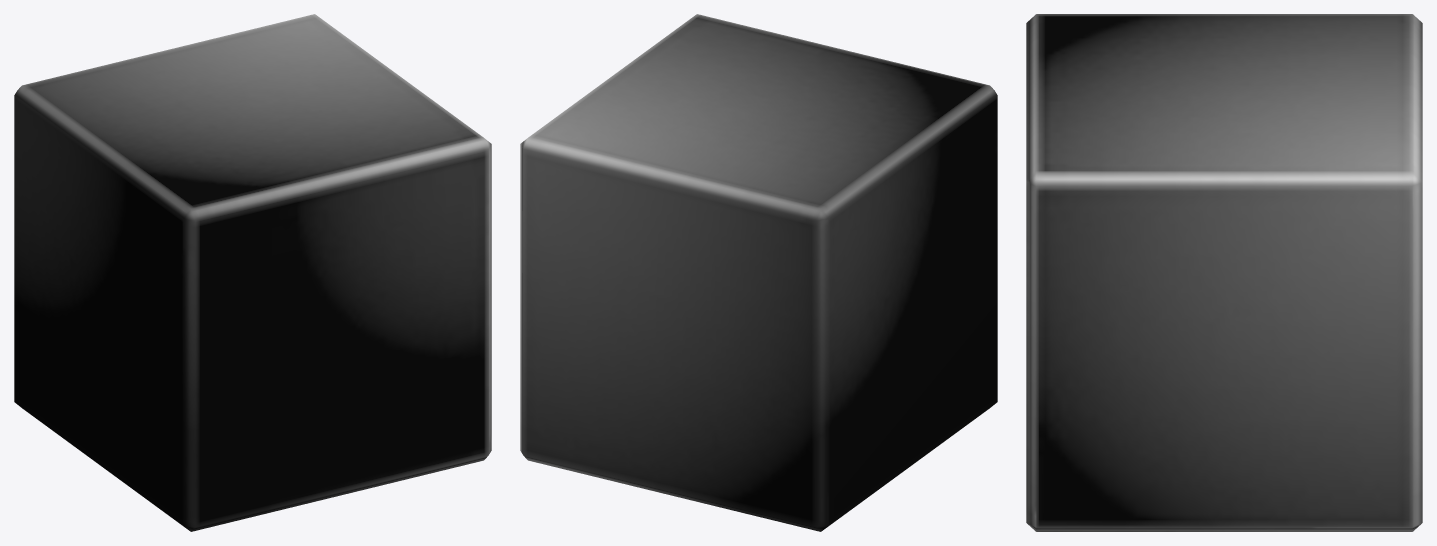
Rendered from kiokuHikari02Small.fbx.
The picture shows the model from 3 angles, left to right: view 1: azimuth 30°, elevation 25°; view 2: azimuth 150°, elevation 25°; view 3: azimuth 270°, elevation 25°; orthographic projection. The views are drawn at different scales.
Visible parts, largest first — view 1: cubeOut_geo; view 2: cubeOut_geo; view 3: cubeOut_geo.
Boxes of the visible parts, box(x1,y1,x2,y2) form: cubeOut_geo: box(14, 14, 491, 531); cubeOut_geo: box(520, 14, 997, 531); cubeOut_geo: box(1026, 14, 1422, 531).
Size of the model in its own units: 0.4537 by 0.4537 by 0.4537.
3 materials, 3 textured.
